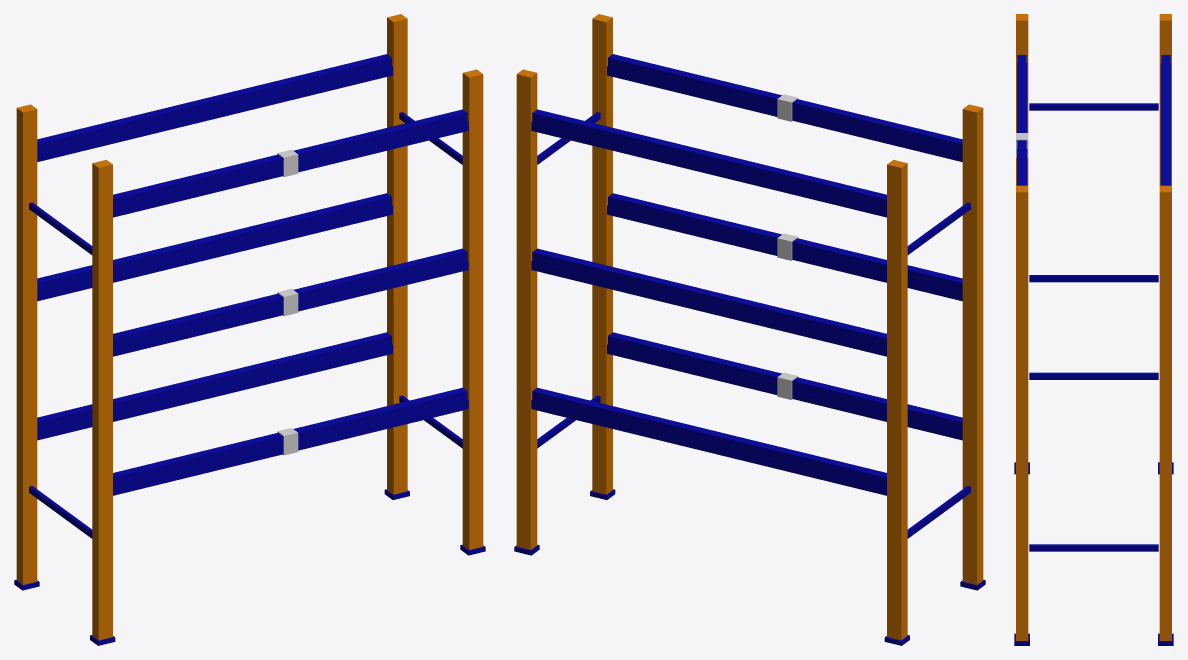
File: high-duty-C27-3.glb
3 views of the same model, side by side, from view 1: azimuth 30°, elevation 25°; view 2: azimuth 150°, elevation 25°; view 3: azimuth 270°, elevation 25° (orthographic). The views are drawn at different scales.
Parts seen in each view (by area): view 1: part_4, part_2, part_0, part_6, part_20, part_8, part_13, part_18, part_15, part_10, part_21, part_19 (+4 smaller); view 2: part_0, part_6, part_4, part_2, part_10, part_15, part_20, part_18, part_13, part_8, part_16, part_21 (+4 smaller); view 3: part_2, part_6, part_20, part_18, part_23, part_24, part_25, part_26, part_4, part_0, part_21, part_19.
Part boxes in pixels (left/top/right/bottom): part_4: left=16, top=104, right=37, bottom=584; part_2: left=462, top=69, right=483, bottom=549; part_0: left=92, top=159, right=112, bottom=640; part_6: left=387, top=14, right=407, bottom=494; part_20: left=37, top=54, right=391, bottom=152; part_8: left=113, top=387, right=467, bottom=486; part_13: left=113, top=248, right=467, bottom=347; part_18: left=113, top=109, right=467, bottom=208; part_15: left=37, top=193, right=391, bottom=291; part_10: left=37, top=332, right=391, bottom=431; part_21: left=37, top=66, right=392, bottom=161; part_19: left=113, top=121, right=468, bottom=217; part_0: left=962, top=104, right=983, bottom=584; part_6: left=516, top=69, right=537, bottom=549; part_4: left=887, top=159, right=907, bottom=640; part_2: left=592, top=14, right=612, bottom=494; part_10: left=532, top=387, right=886, bottom=486; part_15: left=532, top=248, right=886, bottom=347; part_20: left=532, top=109, right=886, bottom=208; part_18: left=608, top=54, right=962, bottom=152; part_13: left=608, top=193, right=962, bottom=291; part_8: left=608, top=332, right=962, bottom=431; part_16: left=531, top=261, right=886, bottom=356; part_21: left=531, top=121, right=886, bottom=217; part_2: left=1016, top=185, right=1028, bottom=640; part_6: left=1159, top=185, right=1171, bottom=640; part_20: left=1161, top=55, right=1170, bottom=185; part_18: left=1017, top=55, right=1026, bottom=185; part_23: left=1029, top=372, right=1158, bottom=379; part_24: left=1029, top=103, right=1158, bottom=110; part_25: left=1029, top=544, right=1158, bottom=551; part_26: left=1029, top=275, right=1158, bottom=282; part_4: left=1159, top=14, right=1171, bottom=185; part_0: left=1016, top=14, right=1028, bottom=185; part_21: left=1160, top=63, right=1170, bottom=185; part_19: left=1017, top=63, right=1027, bottom=185.
Bounding box in the file's own units: 2720 × 3200 × 1020.
